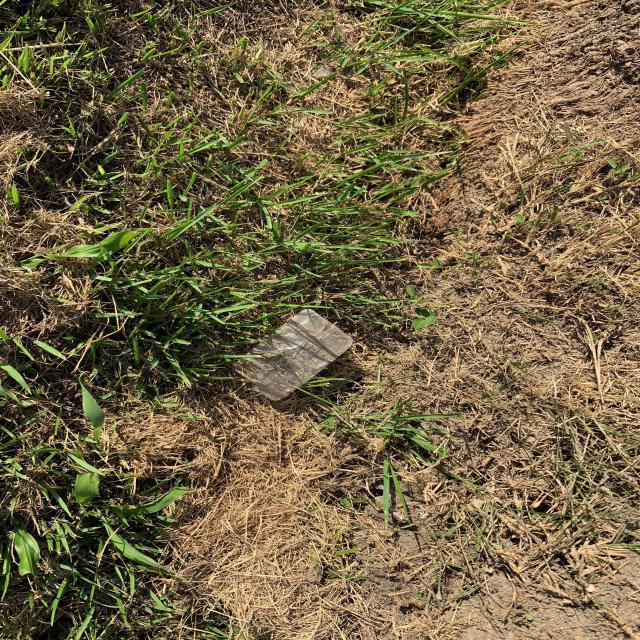litter: (231, 307, 353, 401)
